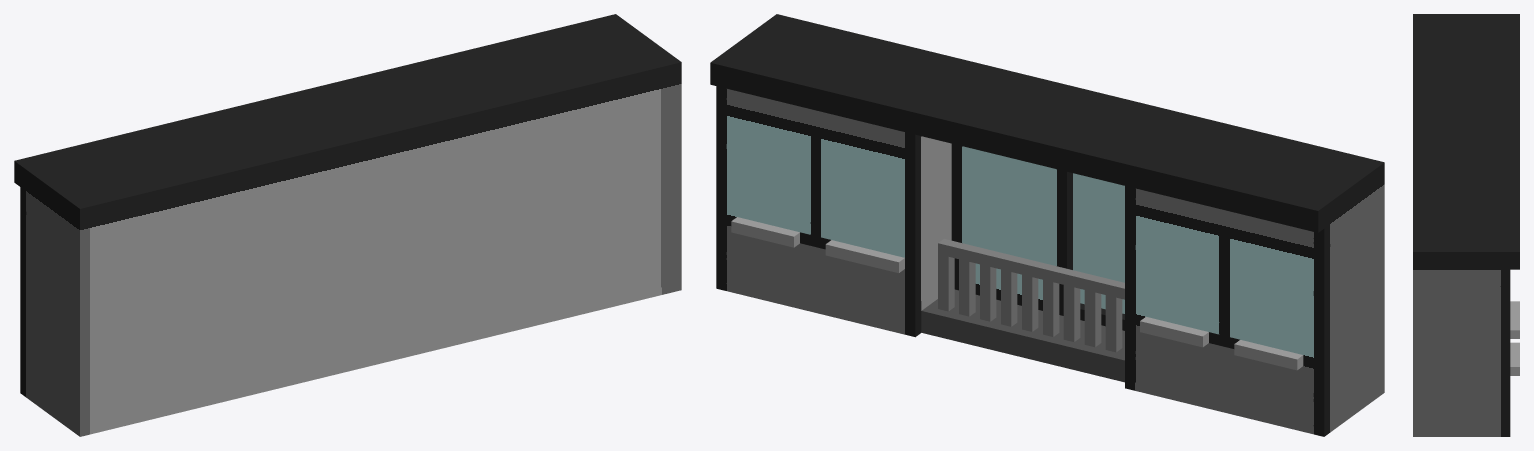
The model's file is obj_floor1c.dae.
3 views of the same model, side by side, from view 1: azimuth 30°, elevation 25°; view 2: azimuth 150°, elevation 25°; view 3: azimuth 270°, elevation 25° (orthographic). The views are drawn at different scales.
Visible parts, largest first — view 1: obj_floor1c; view 2: obj_floor1c; view 3: obj_floor1c.
Part boxes in pixels (left/top/right/bottom): obj_floor1c: left=14, top=14, right=681, bottom=436; obj_floor1c: left=710, top=14, right=1384, bottom=436; obj_floor1c: left=1413, top=14, right=1519, bottom=436.
Size of the model in its own units: 5.8 by 1.1 by 2.1.
1 material, 1 textured.
